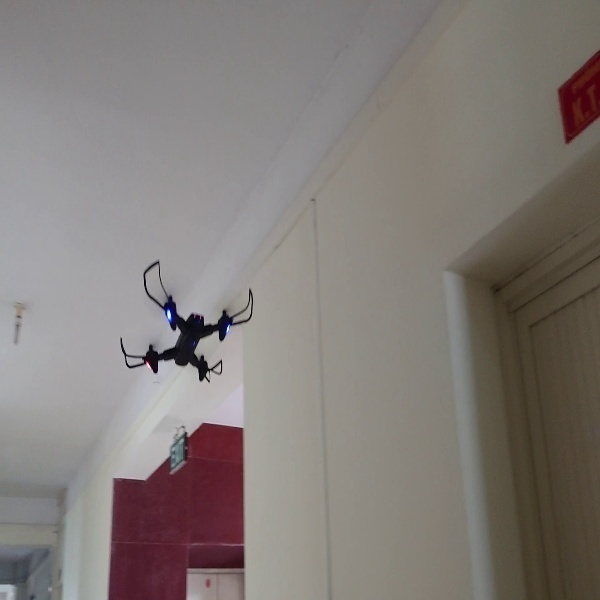drone: (113, 260, 256, 385)
